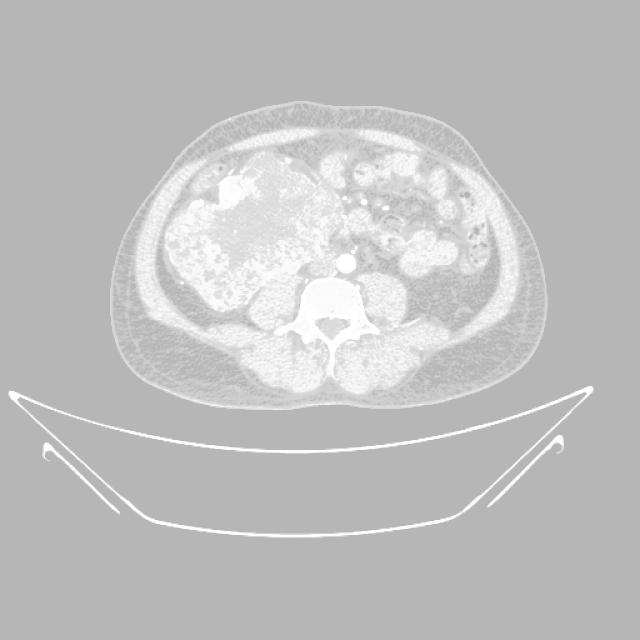TUMOR: (195, 129, 515, 319)
